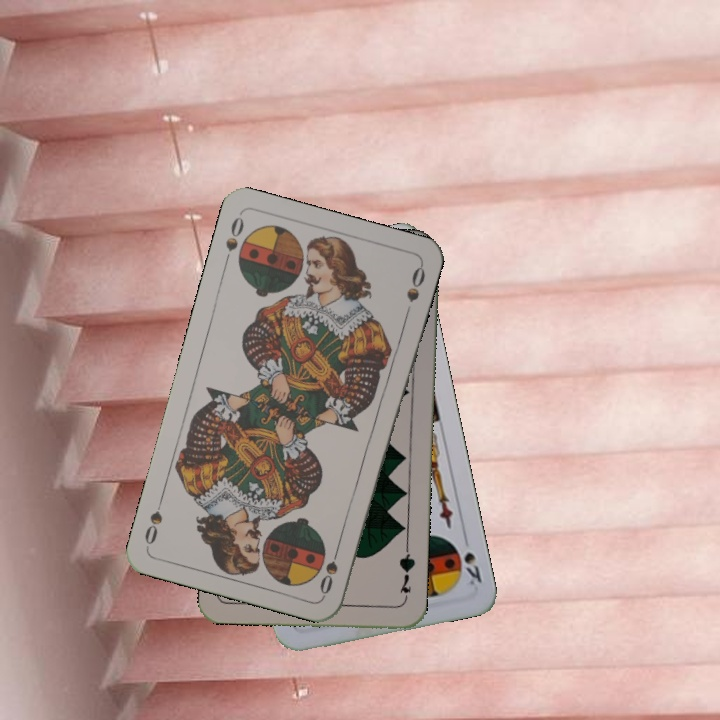G7: (396, 545, 418, 604)
SK: (460, 547, 484, 588)
SO: (316, 539, 343, 597), (220, 213, 247, 269)
